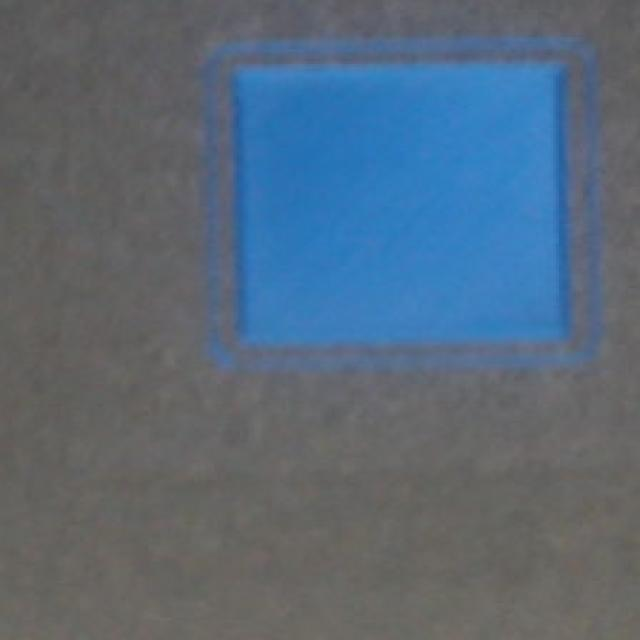noMistake: (228, 68, 578, 350)
